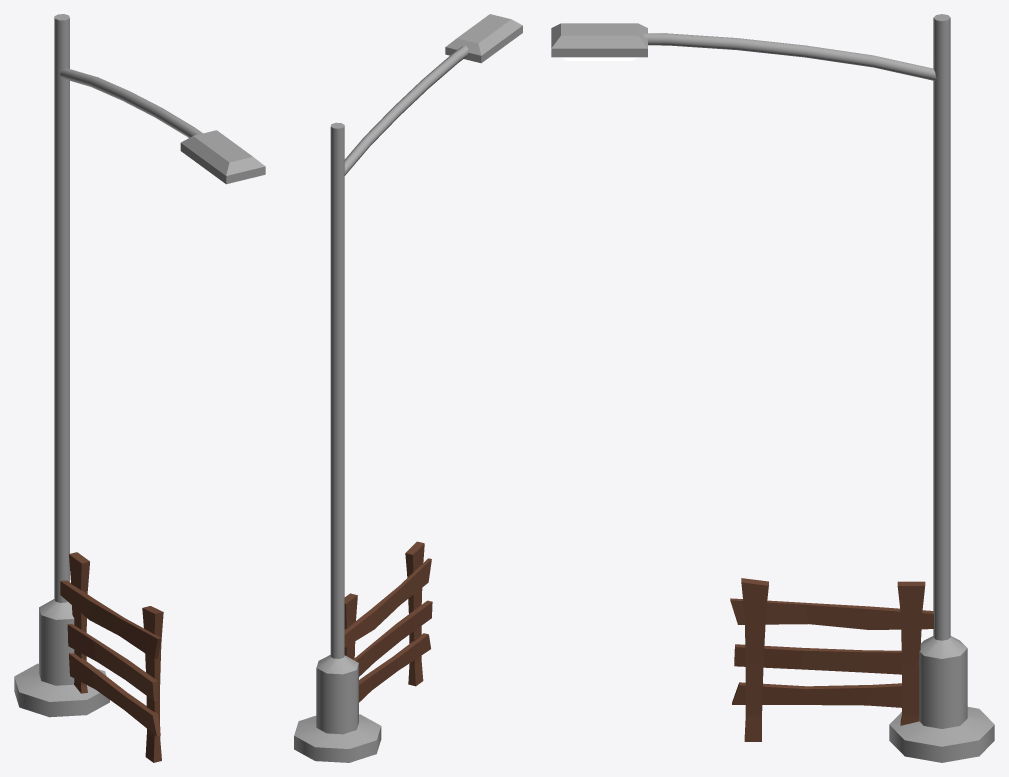
File: SplineSpawnerDemo.fbx
The picture shows the model from 3 angles, left to right: view 1: azimuth 30°, elevation 25°; view 2: azimuth 150°, elevation 25°; view 3: azimuth 270°, elevation 25°; orthographic projection. The views are drawn at different scales.
Visible parts, largest first — view 1: Streetlight, FenceB; view 2: Streetlight, FenceB; view 3: Streetlight, FenceB.
Part boxes in pixels (x1,y1,x2,y2): Streetlight: (14, 14, 265, 717); FenceB: (60, 552, 163, 762); Streetlight: (294, 14, 522, 762); FenceB: (344, 541, 432, 702); Streetlight: (551, 14, 994, 762); FenceB: (730, 578, 933, 741).
Size of the model in its own units: 1.23 by 9.32 by 5.18.
